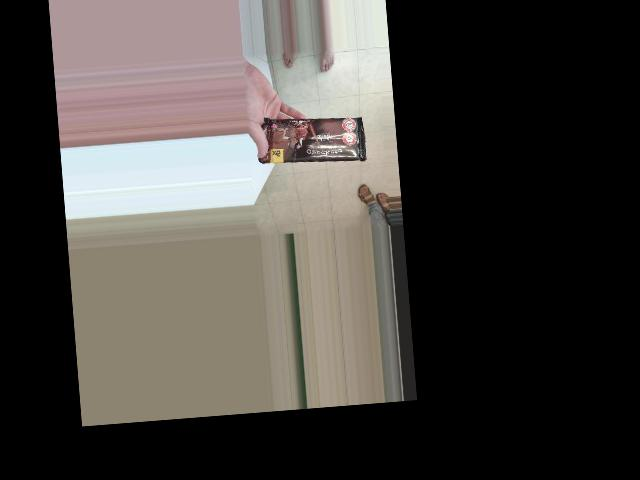chocolate: (309, 98, 375, 213)
